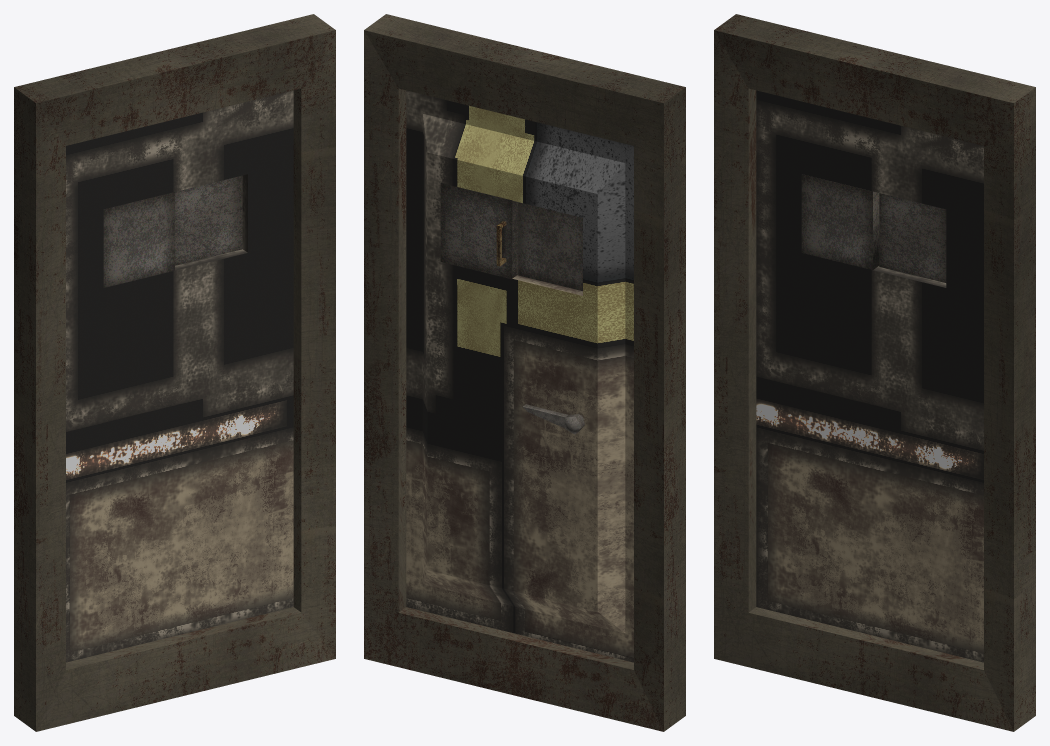
The model's file is Door.fbx.
The picture shows the model from 3 angles, left to right: view 1: azimuth 30°, elevation 25°; view 2: azimuth 150°, elevation 25°; view 3: azimuth 330°, elevation 25°; orthographic projection.
Visible parts, largest first — view 1: polySurface1269; view 2: polySurface1269; view 3: polySurface1269.
Part boxes in pixels (x1,y1,x2,y2): polySurface1269: (14,14,335,731); polySurface1269: (364,14,685,731); polySurface1269: (714,14,1035,731).
Bounding box in the file's own units: 6.92 × 13.86 × 1.42.
